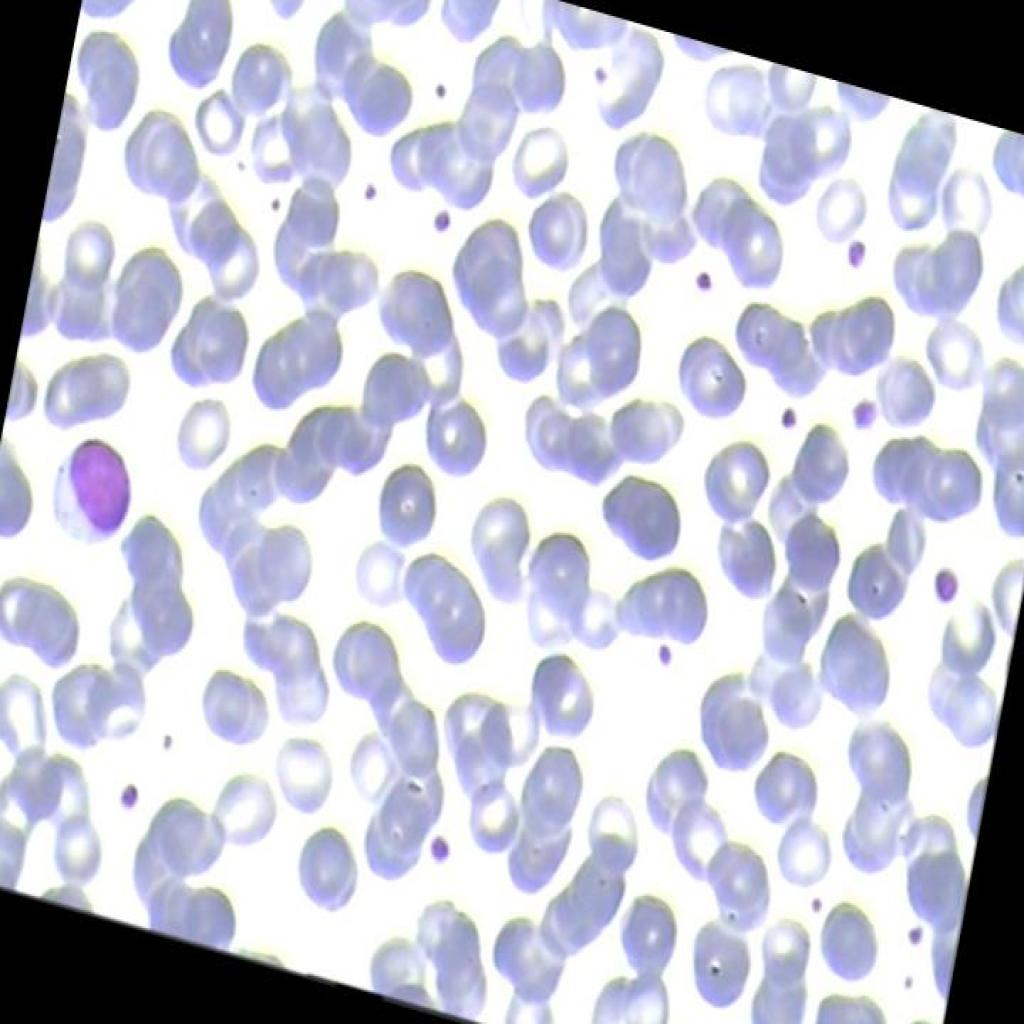Limfosit: (33, 414, 148, 560)
Platelet: (106, 761, 156, 846), (668, 256, 727, 327), (338, 160, 407, 219), (917, 553, 977, 619), (758, 386, 812, 453), (257, 170, 310, 236), (826, 212, 879, 268), (576, 53, 630, 107), (144, 702, 189, 758), (791, 871, 836, 923), (838, 378, 878, 434), (422, 66, 466, 116), (414, 818, 456, 868), (650, 624, 687, 679), (420, 201, 466, 242), (892, 905, 932, 947), (890, 958, 924, 999)
